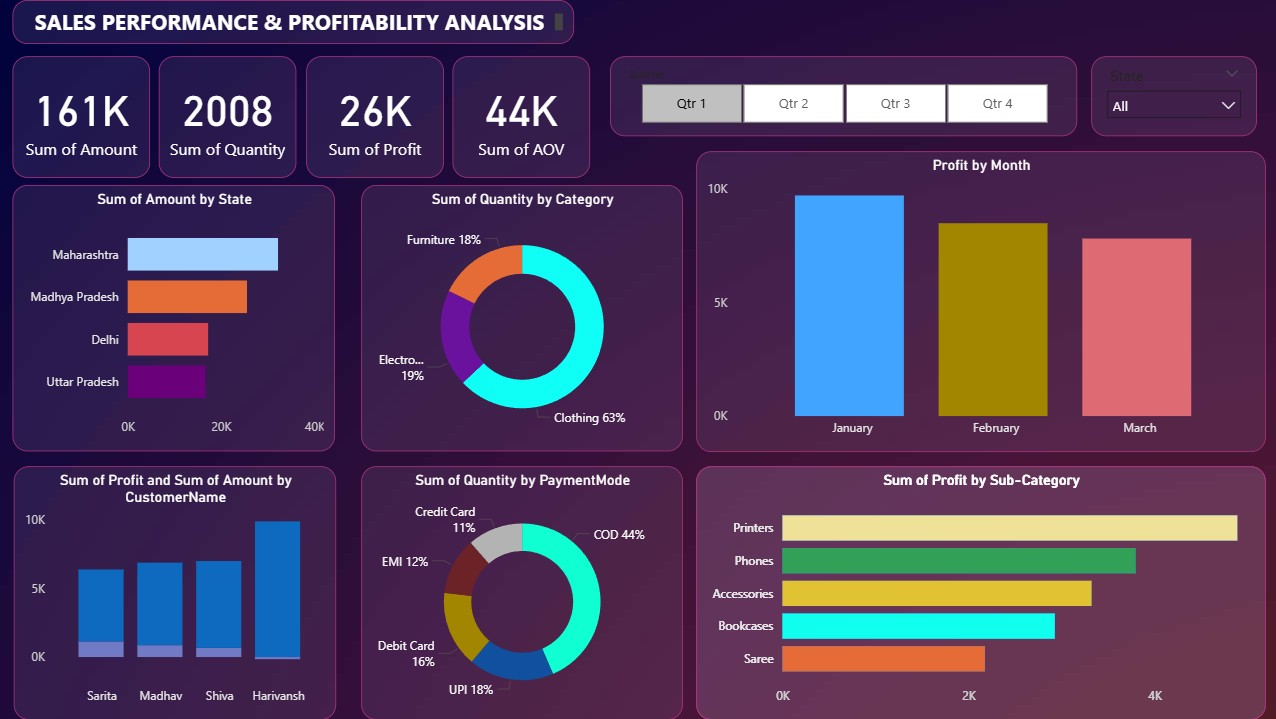

What the dashboard file says about the page in this screenshot:
{"tool":"powerbi","page":{"name":"Page 1","canvas":[1280,720],"ordinal":0},"visuals":[{"type":"textbox","box":[12.3,0,562,44.2],"z":0},{"type":"columnChart","title":"Profit by Month","fields":{"Y":["Details.Profit"],"Category":["Orders.Order Date.Variation.Date Hierarchy.Month"]},"box":[695.7,150.9,569.3,300.6],"z":1000},{"type":"barChart","fields":{"Category":["Details.Sub-Category"],"Y":["Details.Profit"]},"box":[695.7,466.3,569.3,254],"z":2000},{"type":"donutChart","fields":{"Category":["Details.Category"],"Y":["Details.Quantity"]},"box":[360.7,185.3,321.5,266.3],"z":3000},{"type":"donutChart","fields":{"Category":["Details.PaymentMode"],"Y":["Details.Quantity"]},"box":[360.7,466.3,321.5,254],"z":4000},{"type":"card","fields":{"Values":["Details.Amount"]},"box":[12.3,56.4,137.4,121.5],"z":5000},{"type":"card","fields":{"Values":["Details.Quantity"]},"box":[158.3,56.4,137.4,121.5],"z":6000},{"type":"card","fields":{"Values":["Details.Profit"]},"box":[306.8,56.4,137.4,121.5],"z":7000},{"type":"card","fields":{"Values":["Details.AOV"]},"box":[452.8,56.4,137.4,121.5],"z":8000},{"type":"barChart","fields":{"Category":["Details.Sub-Category"],"Y":["Details.Profit"]},"box":[695.7,466.3,569.3,254],"z":9000},{"type":"barChart","fields":{"Category":["Orders.State"],"Y":["Details.Amount"]},"box":[12.3,185.3,322.7,266.3],"z":10000},{"type":"columnChart","fields":{"Category":["Orders.CustomerName"],"Y":["Details.Profit","Details.Amount"]},"box":[13.5,466.3,322.7,254],"z":11000},{"type":"slicer","fields":{"Values":["Orders.Order Date.Variation.Date Hierarchy.Quarter"]},"box":[609.8,56.4,467.5,79.8],"z":12000},{"type":"slicer","fields":{"Values":["Orders.State"]},"box":[1090.8,56.4,165.6,79.8],"z":13000}]}

Visuals, with their boxes in screenshot pixels (x1, y1, x2, y2), scaled from the page's 1280x720 canvas onto the 1276x719 screenshot:
textbox: 12/0/573/44
"Profit by Month" columnChart: 694/151/1261/451
barChart - Details.Sub-Category x Details.Profit: 694/466/1261/718
donutChart - Details.Category x Details.Quantity: 360/185/680/451
donutChart - Details.PaymentMode x Details.Quantity: 360/466/680/718
card - Details.Amount: 12/56/149/178
card - Details.Quantity: 158/56/295/178
card - Details.Profit: 306/56/443/178
card - Details.AOV: 451/56/588/178
barChart - Details.Sub-Category x Details.Profit: 694/466/1261/718
barChart - Orders.State x Details.Amount: 12/185/334/451
columnChart - Orders.CustomerName x Details.Profit: 13/466/335/718
slicer - Orders.Order Date.Variation.Date Hierarchy.Quarter: 608/56/1074/136
slicer - Orders.State: 1087/56/1252/136
